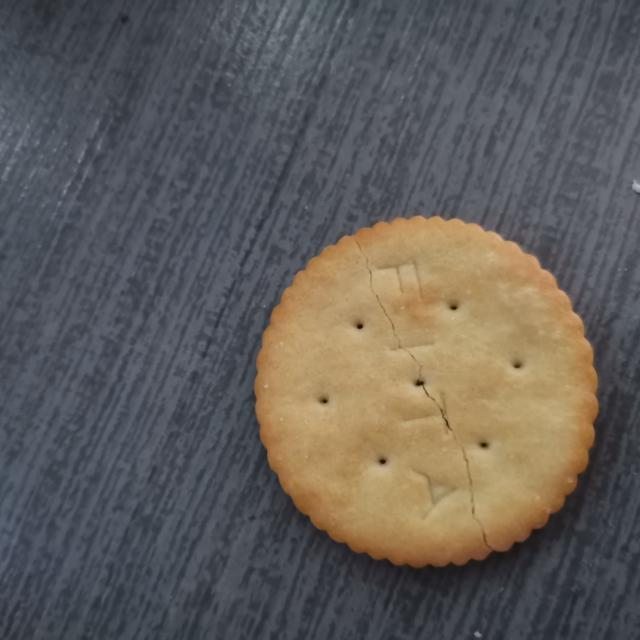Fracture: (334, 230, 514, 562)
